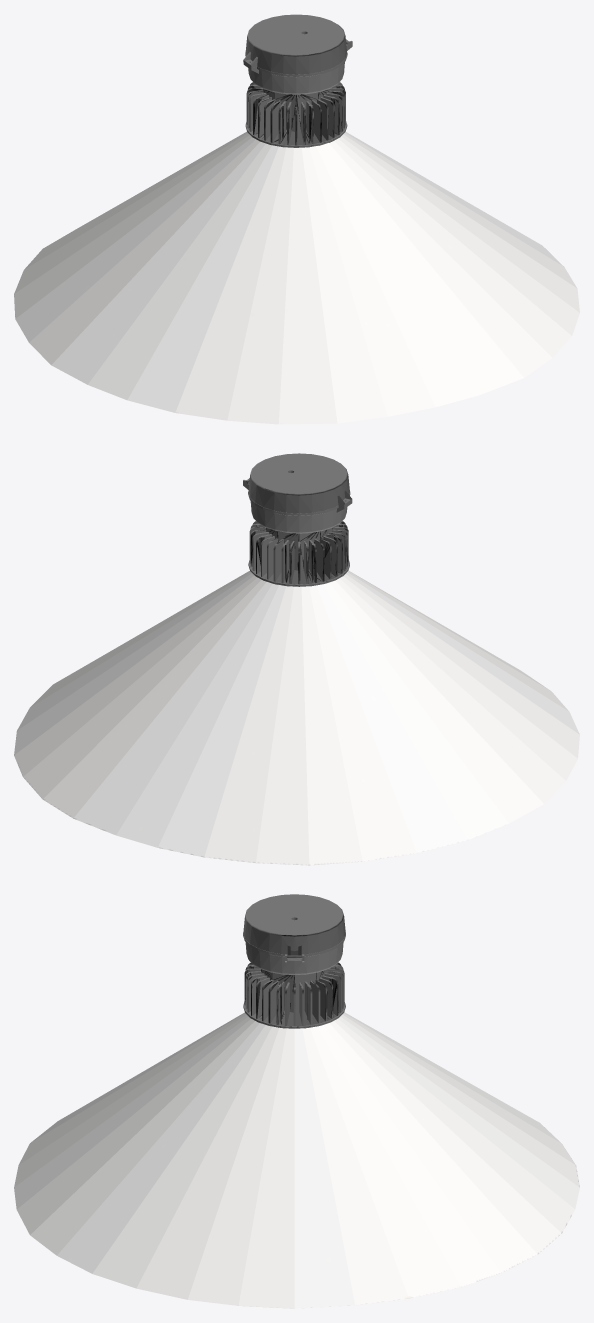
Rendered from HPLN.obj.
3 renders of one model, top to bottom at view 1: azimuth 30°, elevation 25°; view 2: azimuth 150°, elevation 25°; view 3: azimuth 270°, elevation 25°, orthographic.
Visible parts, largest first — view 1: Cylinder_Cylinder.001, VMV7L2HA_UNV1_; view 2: Cylinder_Cylinder.001, VMV7L2HA_UNV1_; view 3: Cylinder_Cylinder.001, VMV7L2HA_UNV1_.
Part boxes in pixels (x1,y1,x2,y2): Cylinder_Cylinder.001: [14, 131, 579, 424]; VMV7L2HA_UNV1_: [243, 14, 352, 147]; Cylinder_Cylinder.001: [14, 570, 579, 865]; VMV7L2HA_UNV1_: [243, 453, 352, 586]; Cylinder_Cylinder.001: [14, 1012, 579, 1308]; VMV7L2HA_UNV1_: [243, 894, 345, 1028].
Bounding box in the file's own units: 56.37 × 29.68 × 55.79.
2 materials, 2 textured.
